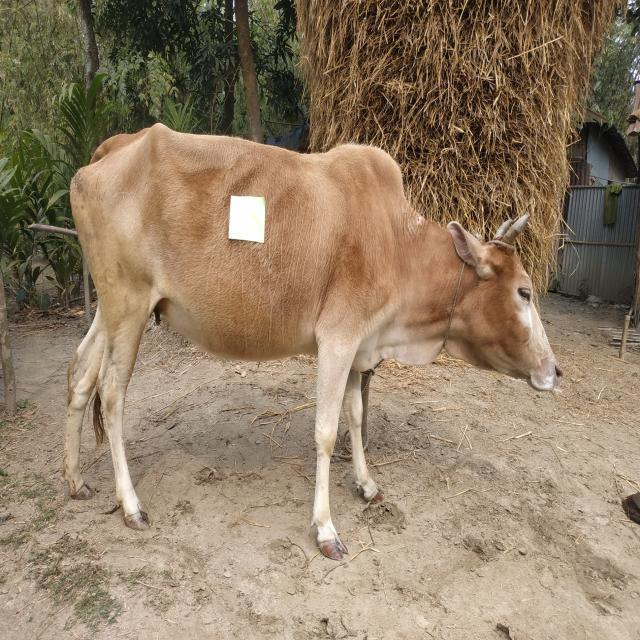badan_sapi: (94, 137, 363, 362)
sapi: (56, 114, 564, 569)
